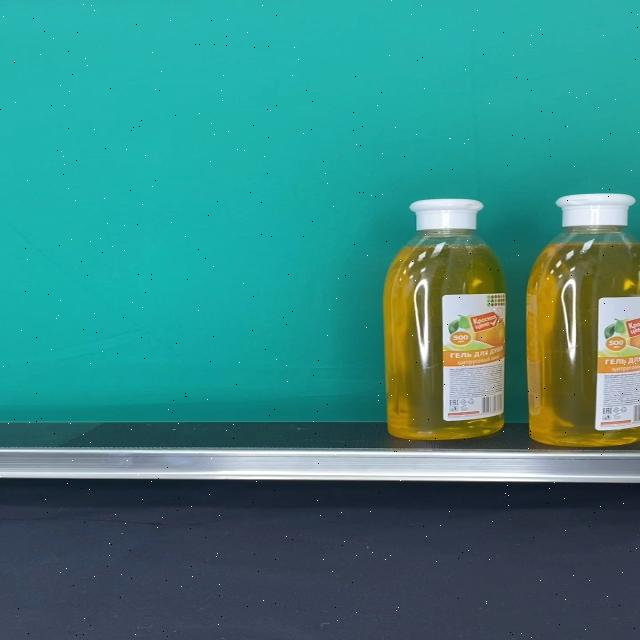Bottle: (386, 198, 506, 440), (526, 194, 640, 447)
Cap: (556, 194, 634, 227), (409, 200, 483, 230)
